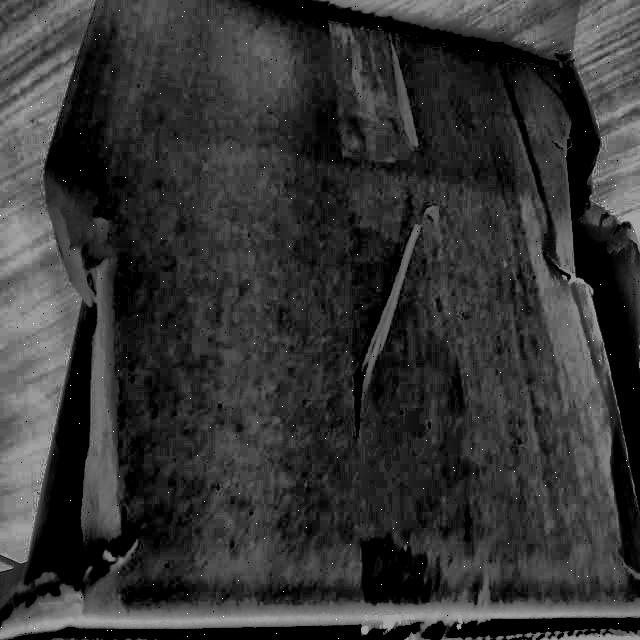box: (0, 1, 639, 640)
hole: (11, 189, 130, 627), (557, 65, 640, 525)
